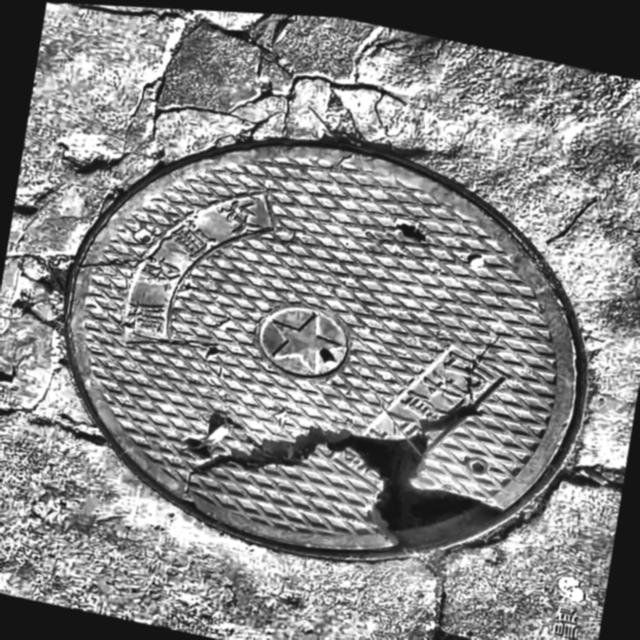Open Manhole: (66, 135, 580, 554)
